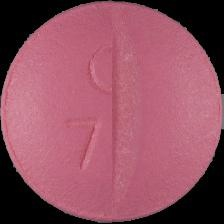68788-6446: (0, 0, 224, 224)
